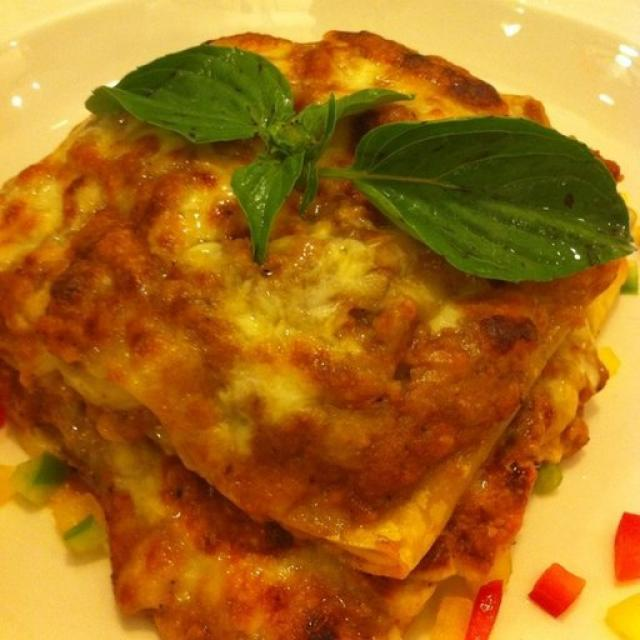Lasagna: (19, 35, 583, 587)
